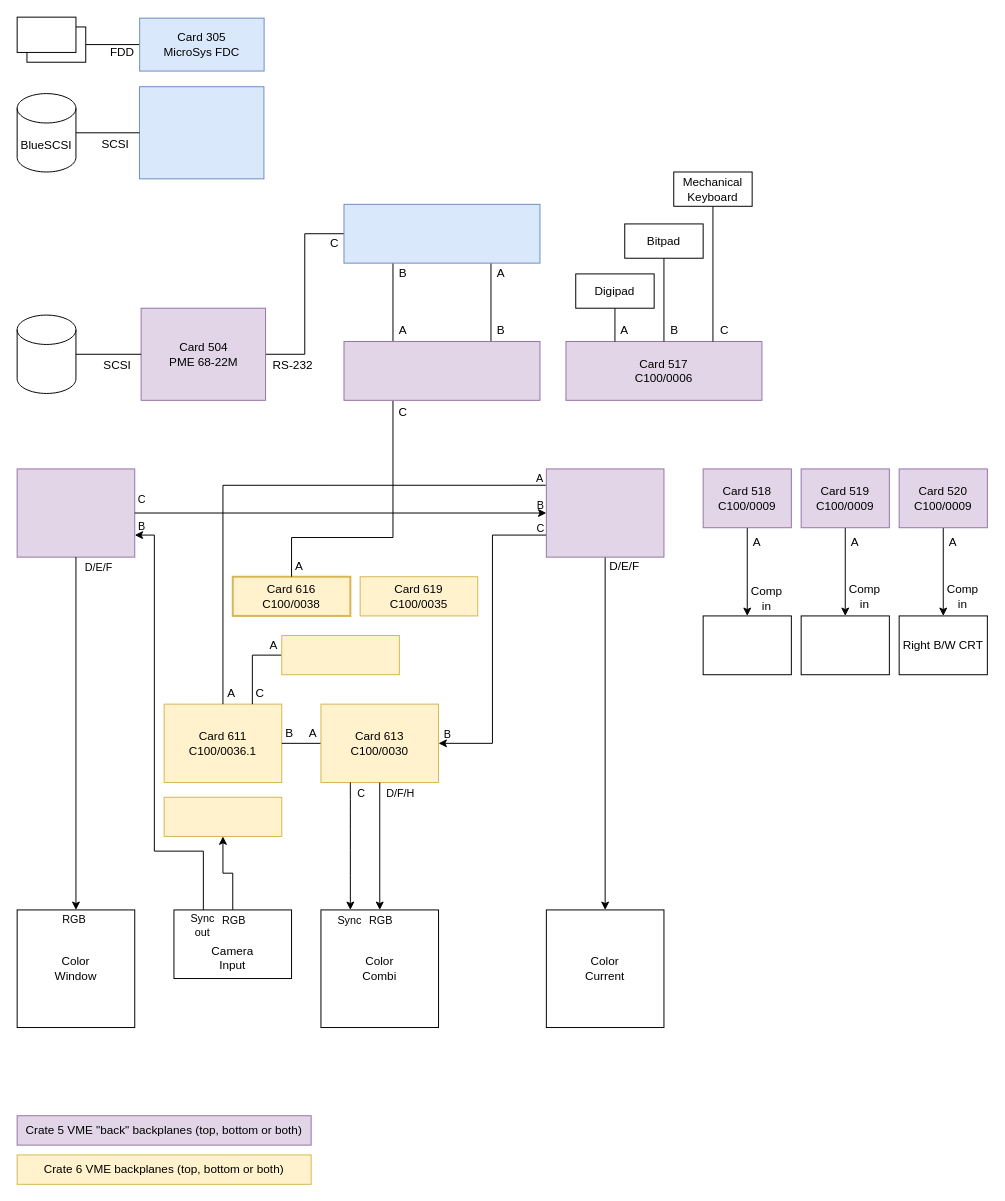
The diagram is 1005 pixels wide and 1201 high, and some of its shapes have lost their labels. Each missing label, with the centre of its shape:
"Card 302 PME 68-22M" belongs at point (201, 132).
"Card 320 C100/0006" belongs at point (441, 233).
"Card 508 C100/065 w/ RAM" belongs at point (604, 512).
"Card 513 C100/065" belongs at point (75, 512).
"Card 516 C100/0006" belongs at point (441, 370).
"Card 617 C100/0032" belongs at point (222, 816).
"Card 618 C100/0048" belongs at point (340, 655).
"Center B/W CRT" belongs at point (844, 645).
"Floppy drives" belongs at point (46, 34).
"Left B/W CRT" belongs at point (746, 645).
"Quantum HDD" belongs at point (46, 353).
